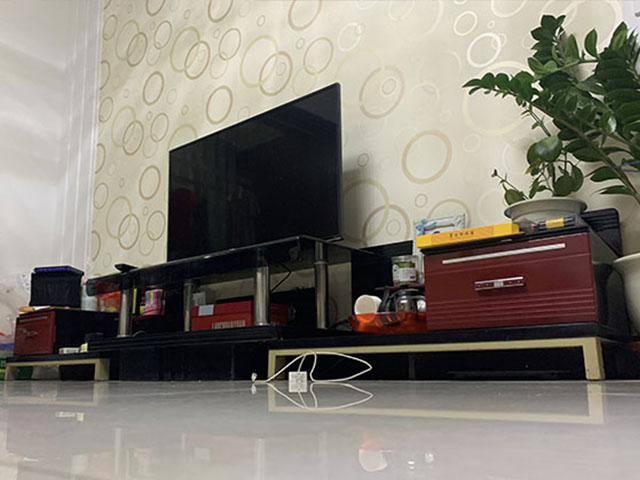cabinet: (4, 234, 631, 383)
wire: (248, 350, 373, 387)
